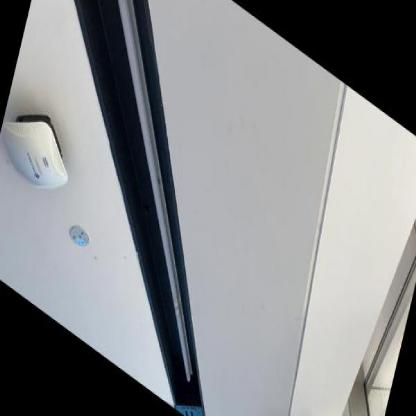light_off: (29, 0, 272, 396)
